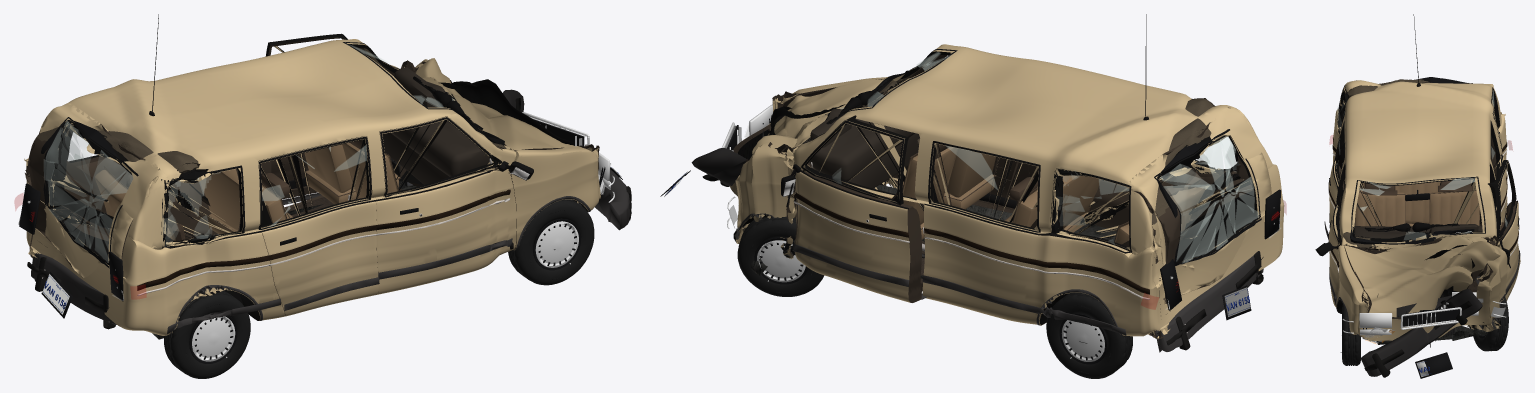
File: minivan86_front_corner_d2_lod1.glb
3 renders of one model, left to right at view 1: azimuth 30°, elevation 25°; view 2: azimuth 150°, elevation 25°; view 3: azimuth 270°, elevation 25°, orthographic. The views are drawn at different scales.
Parts seen in each view (by area): view 1: Body, Interior, Door_FR, Door_SR, Glass_Liftgate, Liftgate, Wheel_RR_mesh, Wheel_FR_mesh, Hood, Trim, Trim_FR, Ends (+6 smaller); view 2: Body, Interior, Door_FL, Glass_Liftgate, Trim, Liftgate, Wheel_RL_mesh, Wheel_FL_mesh, Hood, Glass, Trim_FL, Ends (+4 smaller); view 3: Body, Hood, Interior, Bumper_F, Ends, Glass, Door_FL, Trim, Door_FR, Wheel_FL_mesh, Wheel_FR_mesh, Trim_FL (+6 smaller).
Boxes of the visible parts, x1,y1,x2,y2 form: Body: (24,39,600,335); Interior: (95,67,491,240); Door_FR: (375,116,516,294); Door_SR: (258,136,378,316); Glass_Liftgate: (41,117,138,267); Liftgate: (28,103,169,277); Wheel_RR_mesh: (164,291,250,378); Wheel_FR_mesh: (508,199,594,285); Hood: (413,58,574,150); Trim: (137,14,590,334); Trim_FR: (375,117,533,279); Ends: (18,112,622,318); Body: (730,44,1284,339); Interior: (809,94,1205,244); Door_FL: (794,115,921,302); Glass_Liftgate: (1154,129,1261,266); Trim: (734,14,1149,335); Liftgate: (1129,106,1271,304); Wheel_RL_mesh: (1046,292,1132,378); Wheel_FL_mesh: (737,216,824,296); Hood: (752,79,884,153); Glass: (802,49,1239,244); Trim_FL: (781,121,926,299); Ends: (660,104,1281,320); Body: (1333,79,1507,341); Hood: (1344,234,1500,317); Interior: (1354,179,1482,238); Bumper_F: (1361,288,1482,377); Ends: (1342,292,1506,378); Glass: (1337,89,1501,244); Door_FL: (1488,160,1520,300); Trim: (1329,14,1507,347); Door_FR: (1329,163,1345,307); Wheel_FL_mesh: (1473,297,1508,351); Wheel_FR_mesh: (1340,304,1360,365); Trim_FL: (1498,160,1520,296).
Bounding box in the file's own units: 4.58 × 2.5 × 2.01.
34 materials, 5 textured.
